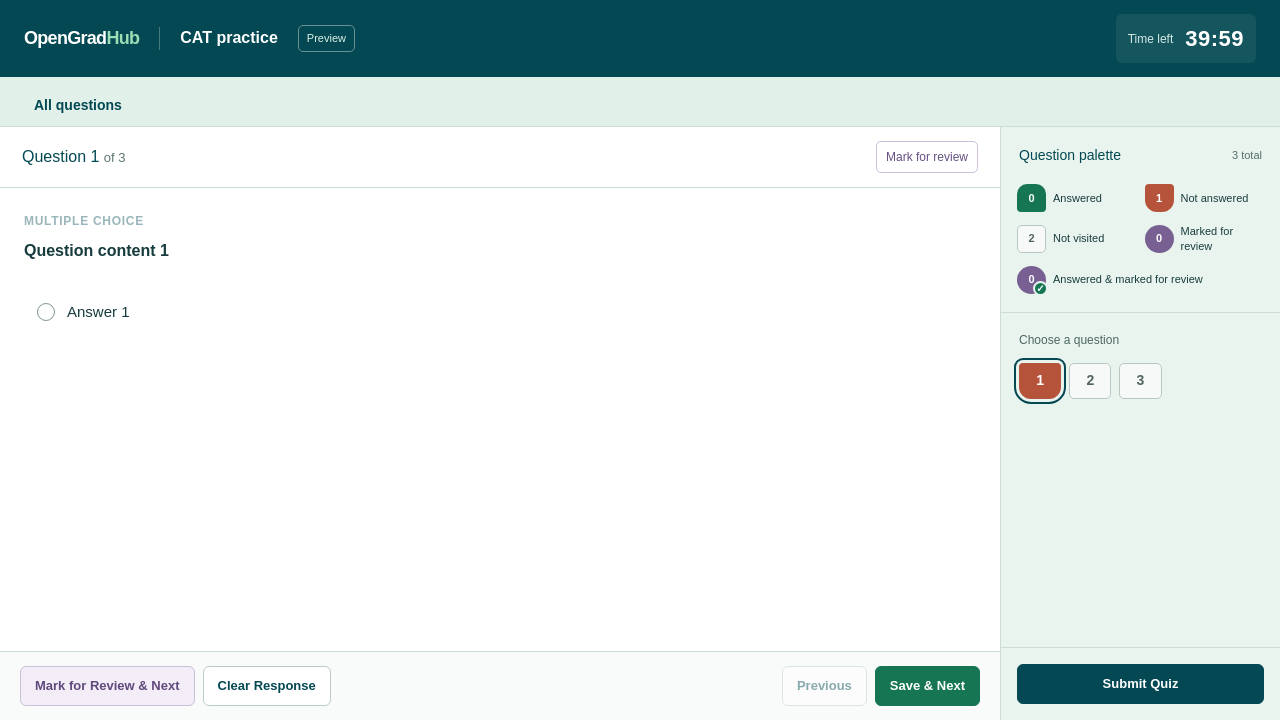
it: marks the last question without submitting and keeps review toggling reversible
Click the button named "Question 3: Not visited": point(1140, 381) [1119,363,1162,399]
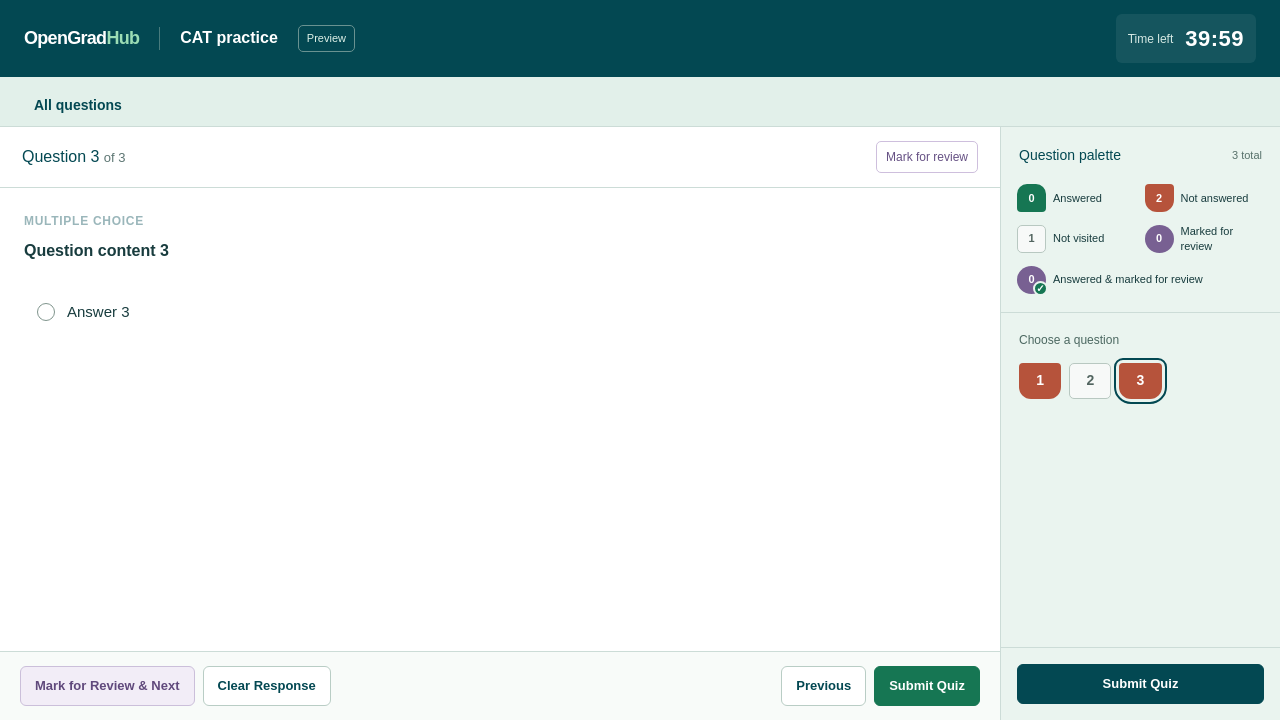
Click the button "Mark for Review & Next": point(107, 686) [20,666,194,706]
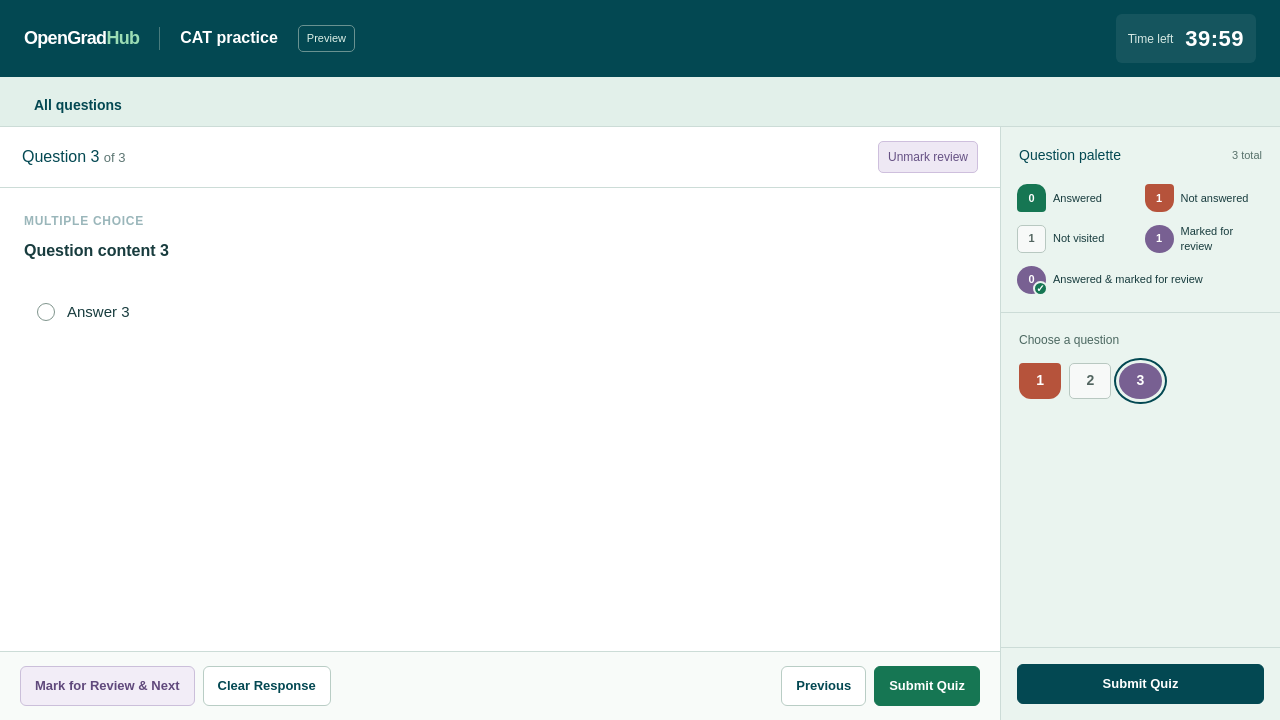
Expected: the button named "Question 3: Marked for review" is marked as current, [1119,363,1162,399]
Click the button "Unmark review": point(928, 157) [878,141,978,173]
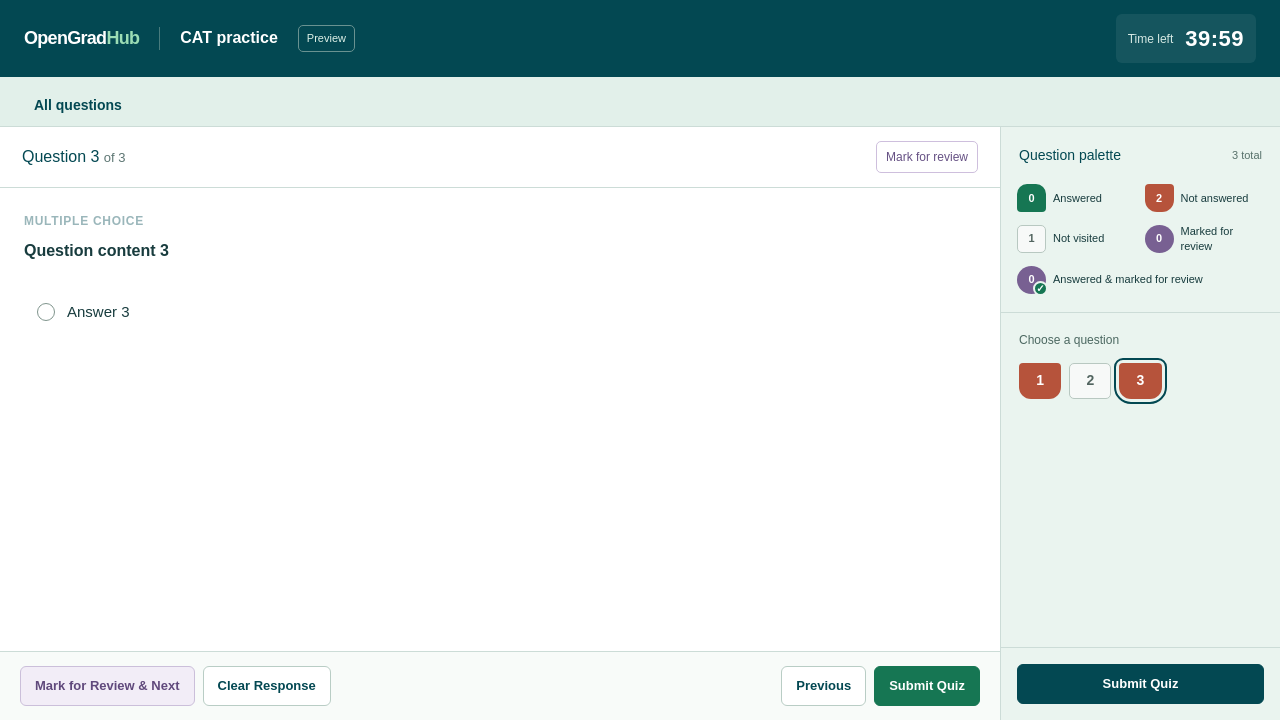
Expected: the button named "Question 3: Not answered" is shown, [1119,363,1162,399]
